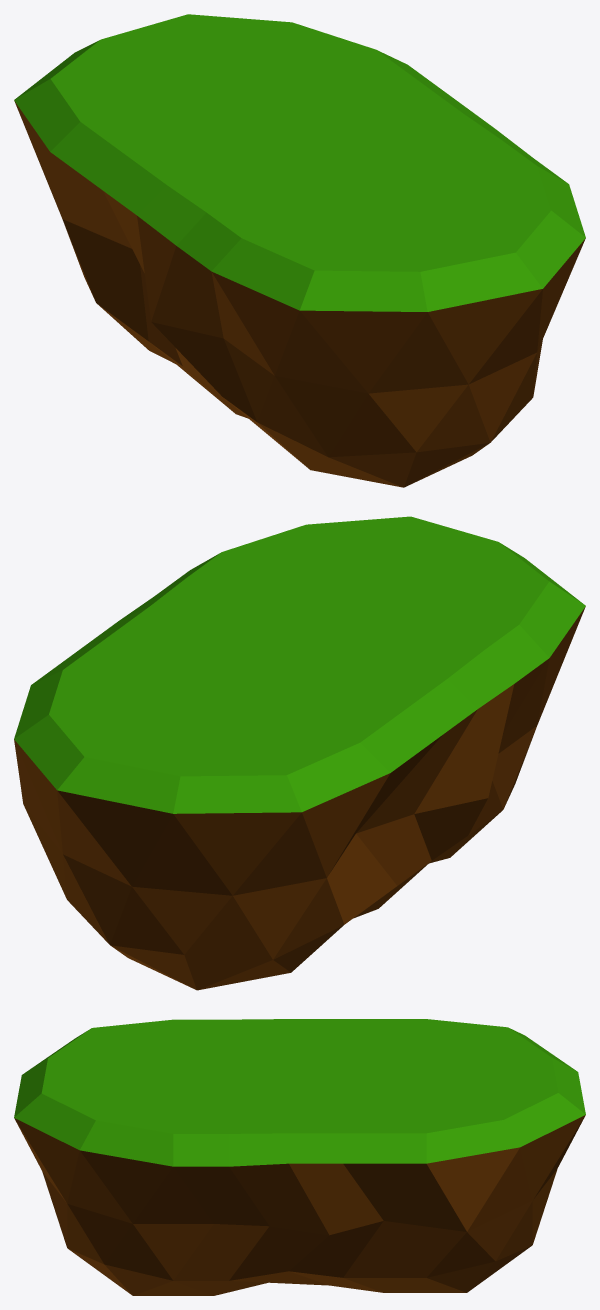
File: Island_02.fbx
The picture shows the model from 3 angles, top to bottom: view 1: azimuth 30°, elevation 25°; view 2: azimuth 150°, elevation 25°; view 3: azimuth 270°, elevation 25°; orthographic projection. The views are drawn at different scales.
Visible parts, largest first — view 1: Island_02; view 2: Island_02; view 3: Island_02.
Boxes of the visible parts, box(x1,y1,x2,y2) form: Island_02: box(14, 14, 585, 487); Island_02: box(14, 516, 585, 990); Island_02: box(14, 1019, 585, 1295).
Bounding box in the file's own units: 250 × 180 × 436.
